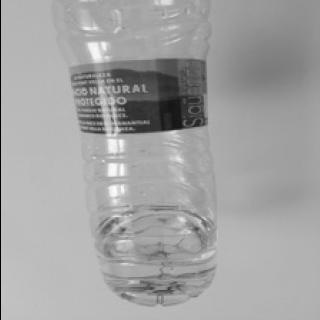plastic_bottles: (48, 0, 216, 307)
